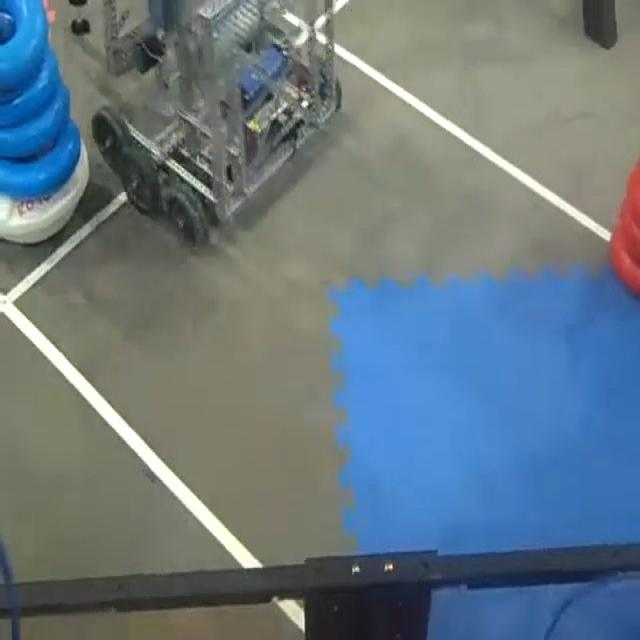Blue-Ring: (0, 120, 81, 199), (0, 83, 70, 158), (0, 47, 59, 128), (0, 0, 48, 96)
Red-Ring: (611, 163, 640, 294)
